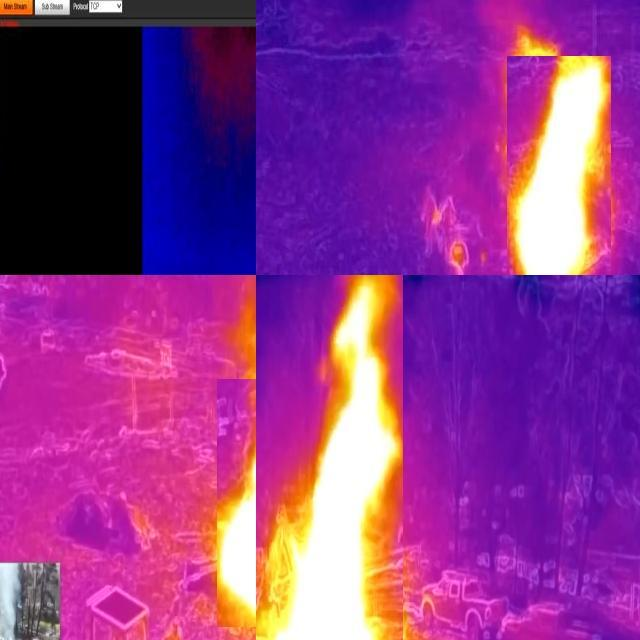fire: (257, 276, 403, 640), (507, 56, 611, 276), (217, 379, 257, 627)
